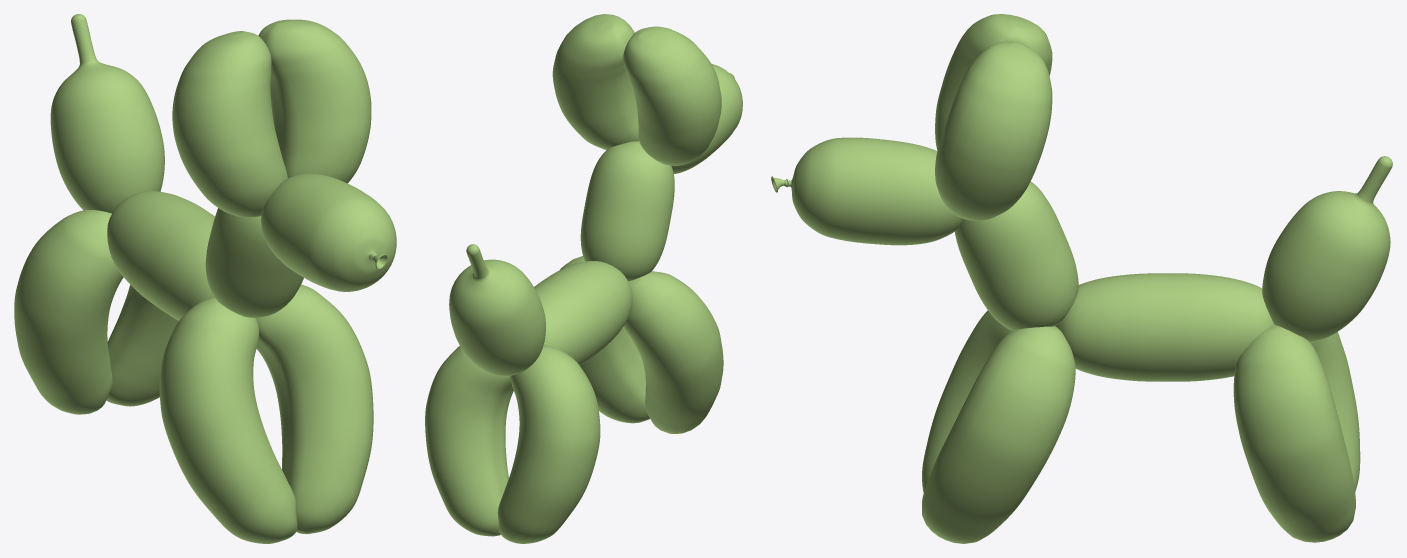
The model's file is ballonDog.glb.
The picture shows the model from 3 angles, left to right: view 1: azimuth 30°, elevation 25°; view 2: azimuth 150°, elevation 25°; view 3: azimuth 270°, elevation 25°; orthographic projection. The views are drawn at different scales.
Parts seen in each view (by area): view 1: Object_5, Object_3, Object_2, Object_6, Object_4; view 2: Object_5, Object_3, Object_2, Object_6, Object_4; view 3: Object_5, Object_3, Object_2, Object_4, Object_6.
Boxes of the visible parts, x1,y1,x2,y2 form: Object_5: [106, 284, 373, 543]; Object_3: [107, 19, 371, 320]; Object_2: [50, 14, 303, 317]; Object_6: [14, 210, 123, 414]; Object_4: [261, 173, 396, 291]; Object_5: [425, 256, 723, 536]; Object_3: [534, 14, 721, 365]; Object_2: [449, 141, 674, 376]; Object_6: [497, 345, 600, 543]; Object_4: [671, 64, 742, 173]; Object_5: [922, 310, 1355, 543]; Object_3: [935, 14, 1274, 381]; Object_2: [955, 156, 1392, 341]; Object_4: [771, 137, 962, 245]; Object_6: [1310, 332, 1360, 491].
Size of the model in its own units: 0.7346 by 1.76 by 2.
